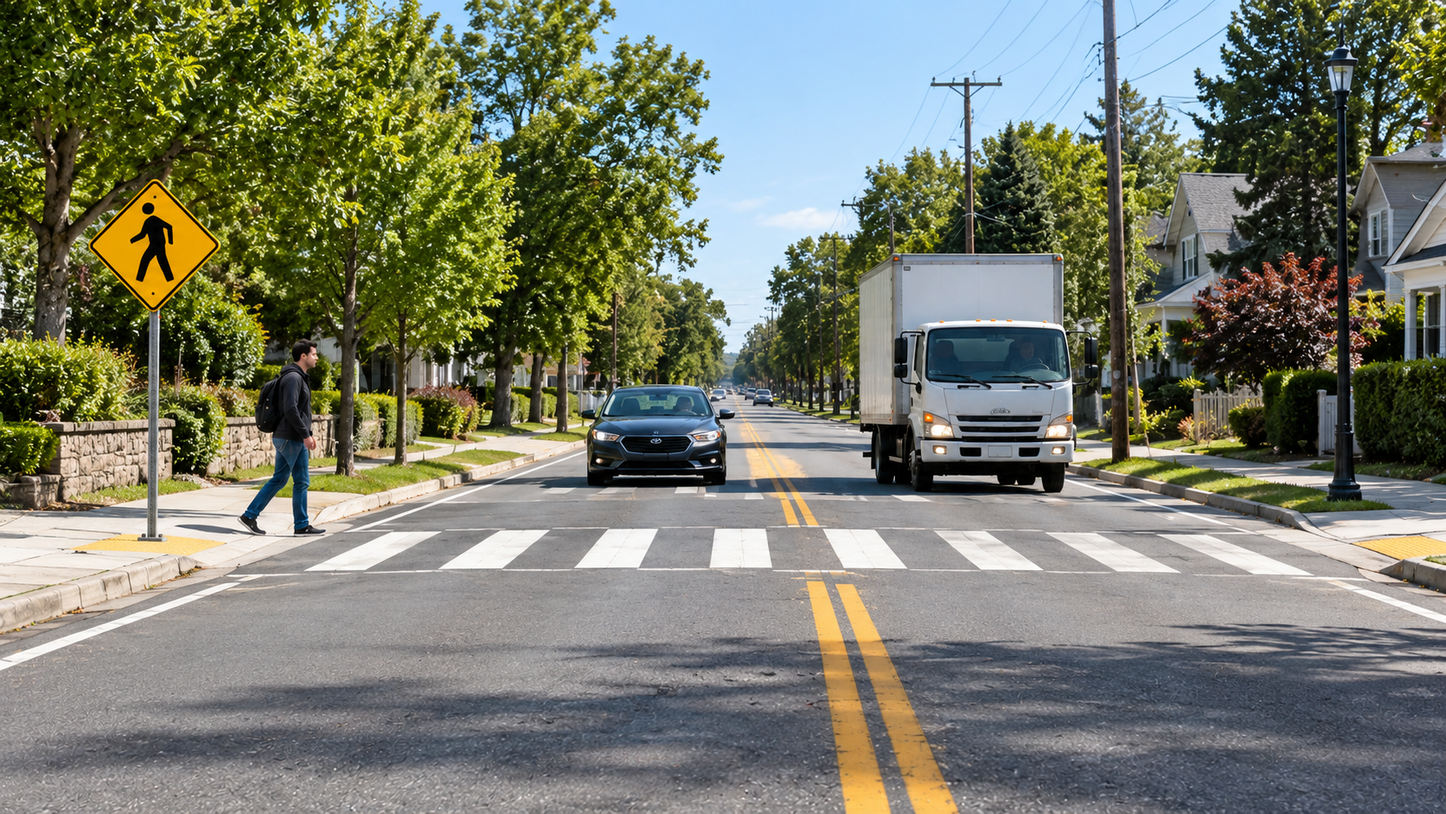bicycle: (1093, 412, 1204, 603)
bus: (277, 240, 621, 520)
car: (738, 383, 934, 527)
crossing_warning_sign: (1235, 209, 1367, 339)
person: (1094, 334, 1211, 588)
